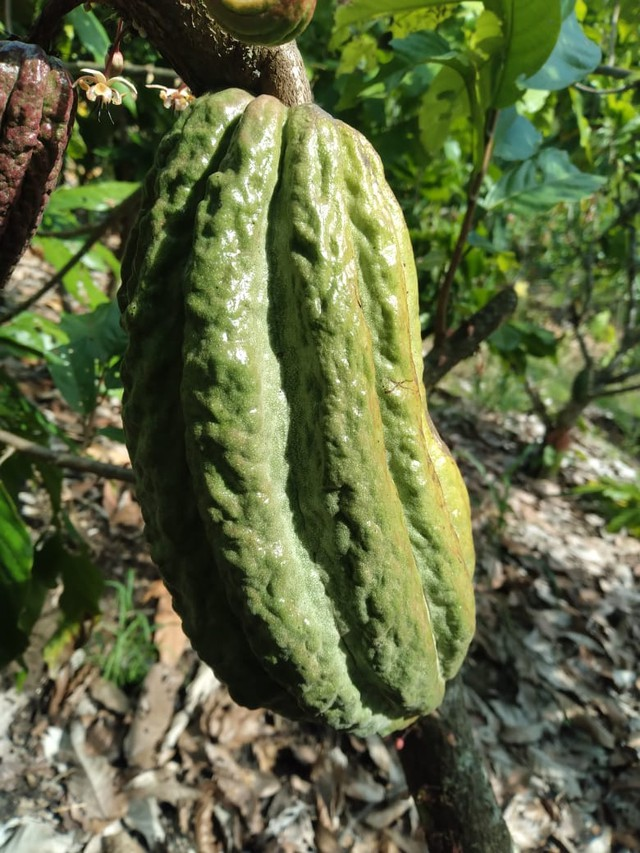Health: (67, 60, 512, 754)
